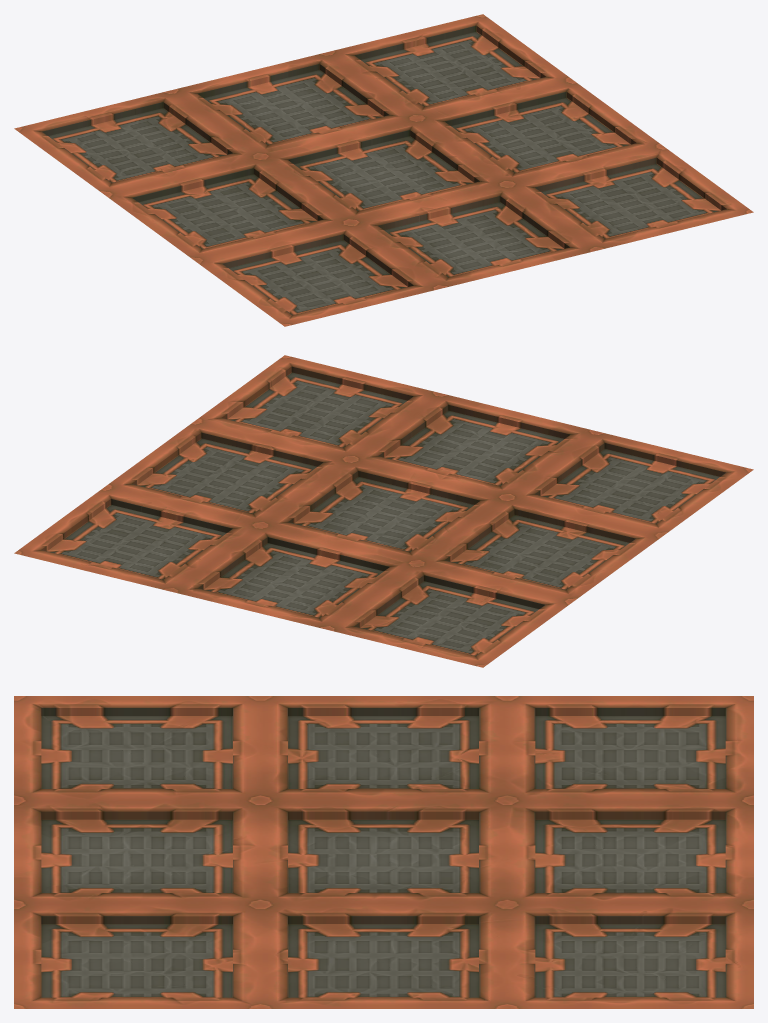
The model's file is Gate.fbx.
3 views of the same model, one above another, from view 1: azimuth 30°, elevation 25°; view 2: azimuth 150°, elevation 25°; view 3: azimuth 270°, elevation 25° (orthographic). The views are drawn at different scales.
Parts seen in each view (by area): view 1: Plane; view 2: Plane; view 3: Plane.
Part boxes in pixels (x1,y1,x2,y2): Plane: (14,14,753,326); Plane: (14,355,753,667); Plane: (14,696,753,1008).
Bounding box in the file's own units: 200 × 2.35 × 200.
